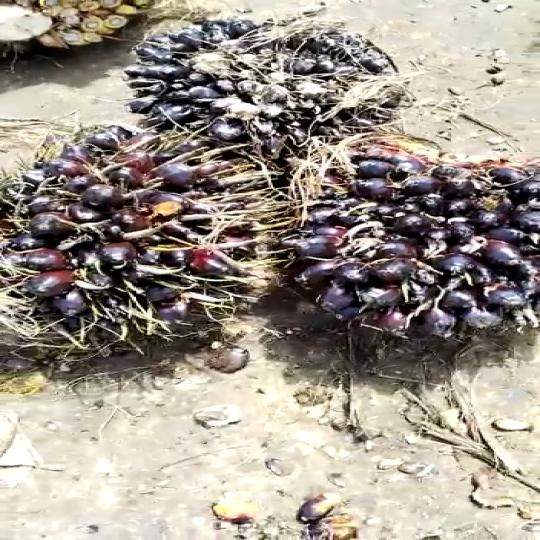mentah: (0, 93, 324, 385), (265, 128, 540, 361), (127, 0, 464, 164)
